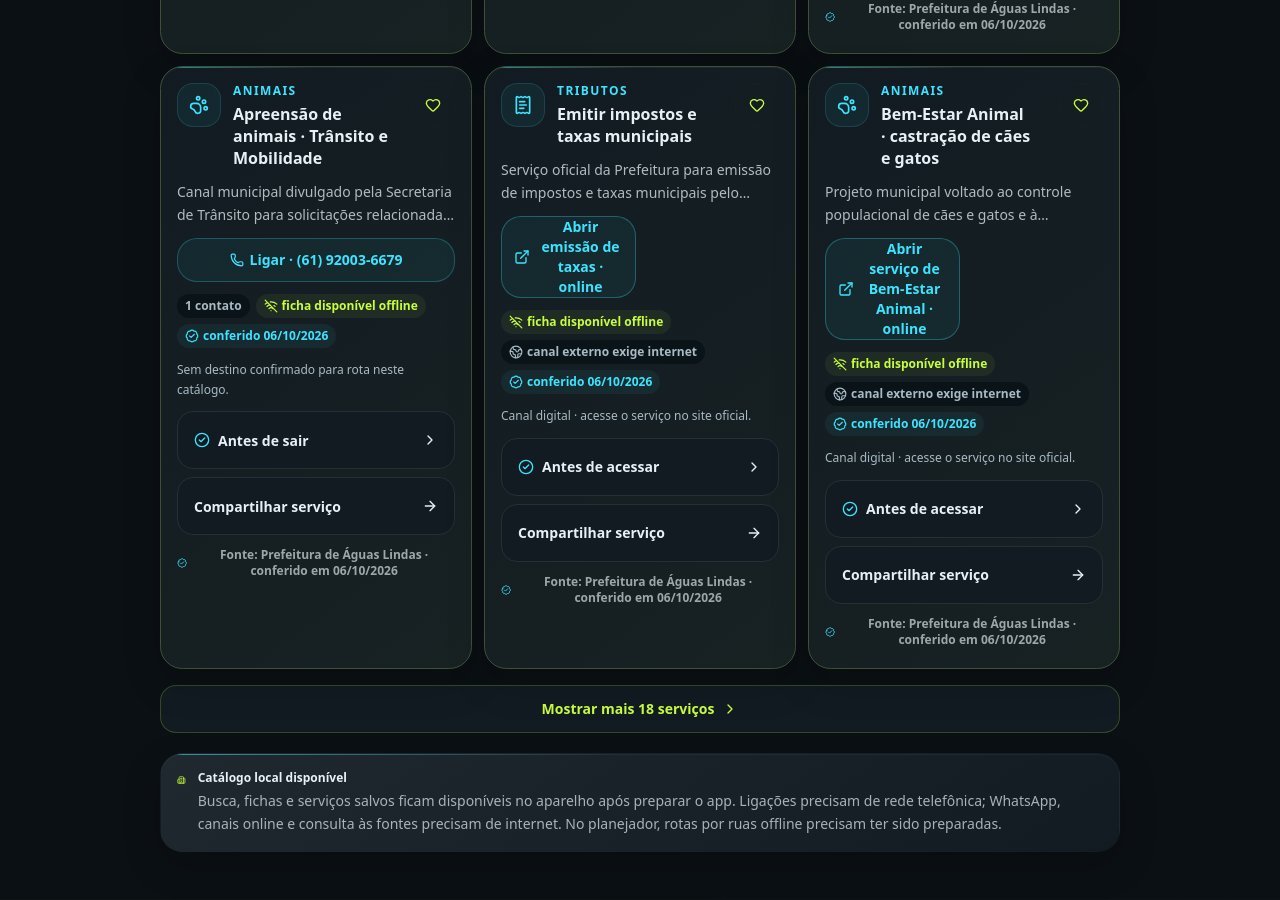
Test case: opens the directory in batches and keeps all search matches accessible
(page scrolled)
Click the button "Mostrar mais 18 serviços". click: (640, 709)
box: [160,685,1120,733]
(page scrolled)
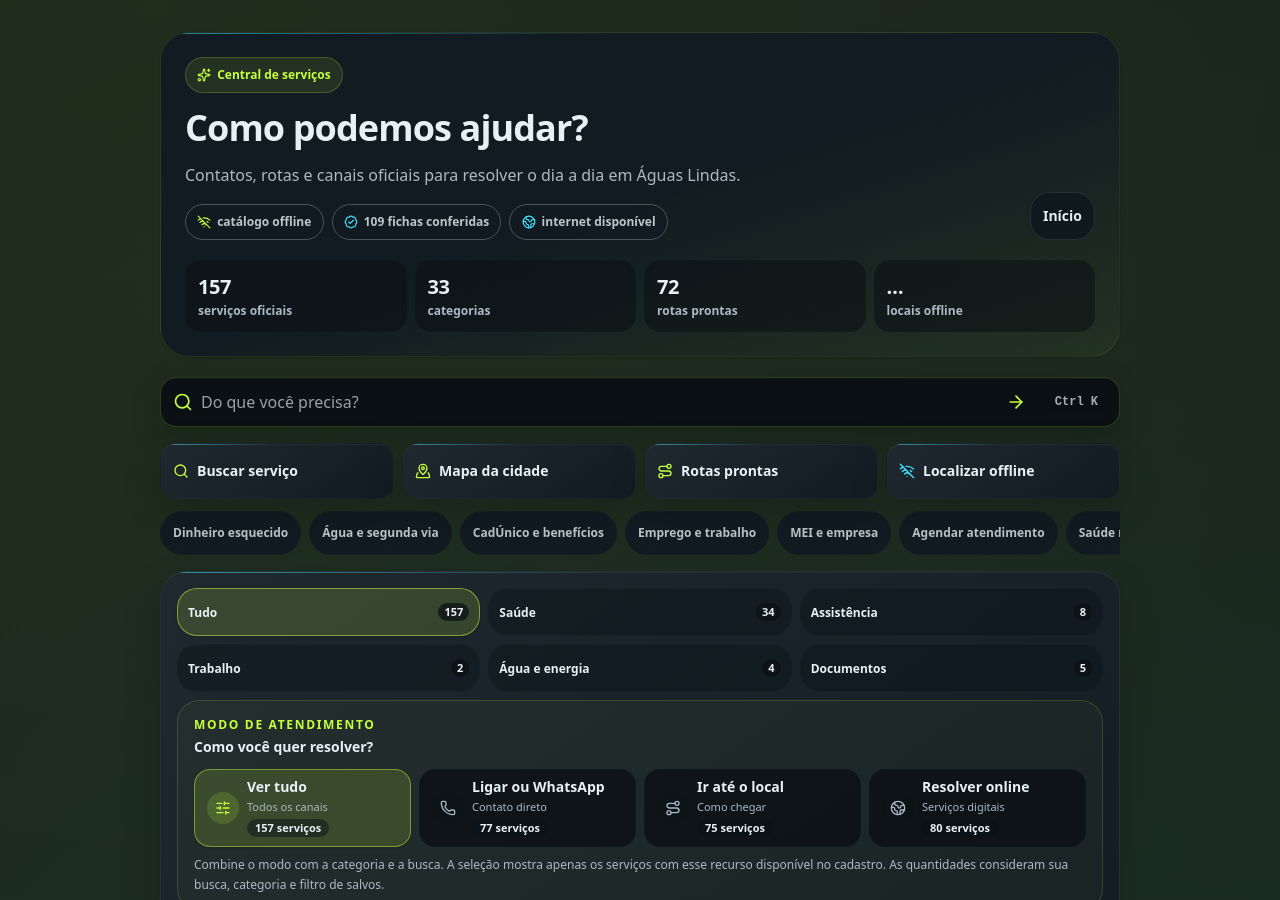
Type "ESF" into the field named "Buscar serviços públicos". click: (593, 402)
box: [201,378,986,426]
(page scrolled)
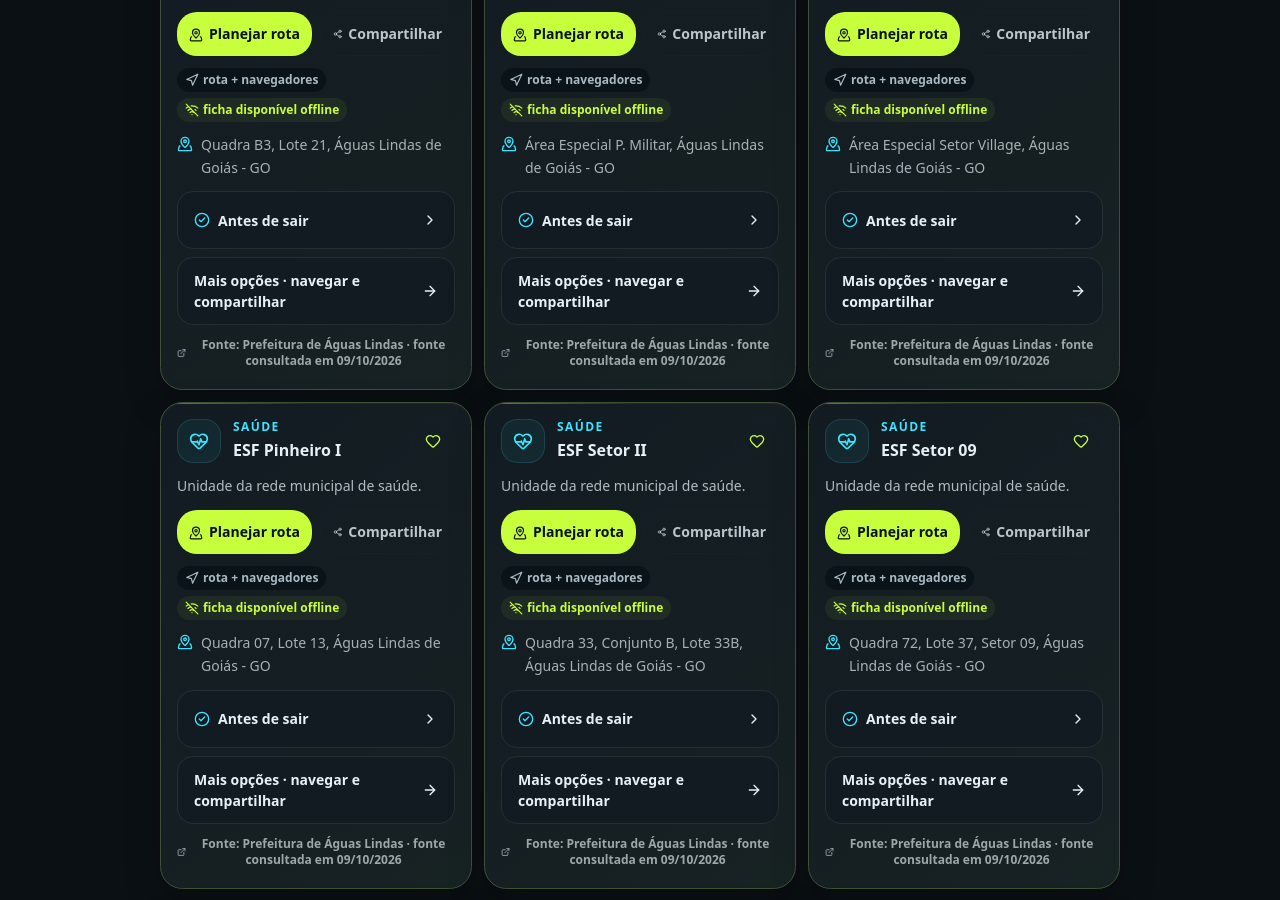
Expected: the button "Mostrar mais 18 serviços" is not shown
Result: the heading "ESF Setor 09" is shown at [881,439,977,461]
